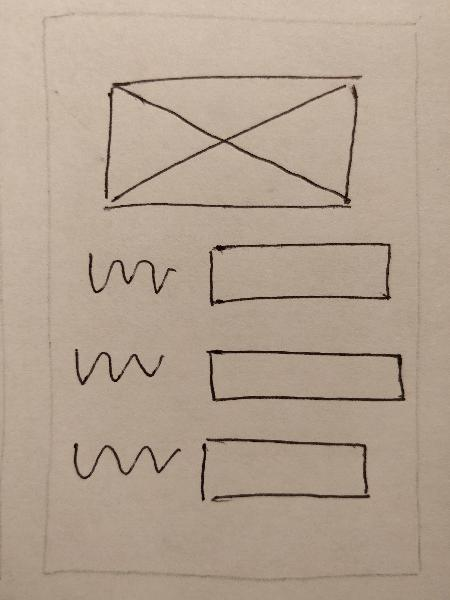image: (92, 66, 368, 217)
text: (58, 432, 184, 491), (72, 245, 192, 306), (68, 337, 179, 394)
text_input: (191, 430, 382, 516), (200, 339, 411, 410), (199, 233, 399, 306)
